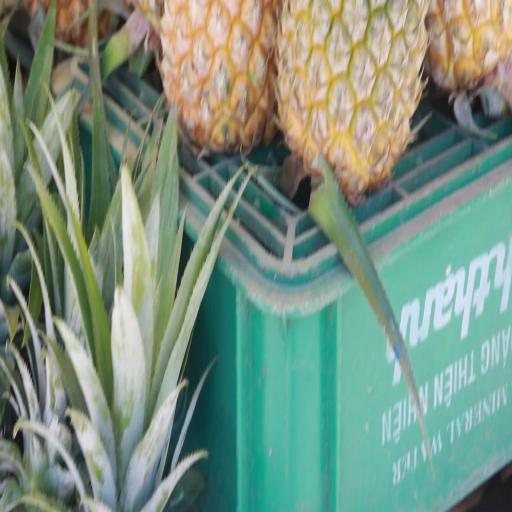Pineapple - v8 v1: (274, 0, 434, 204), (158, 0, 276, 162)
